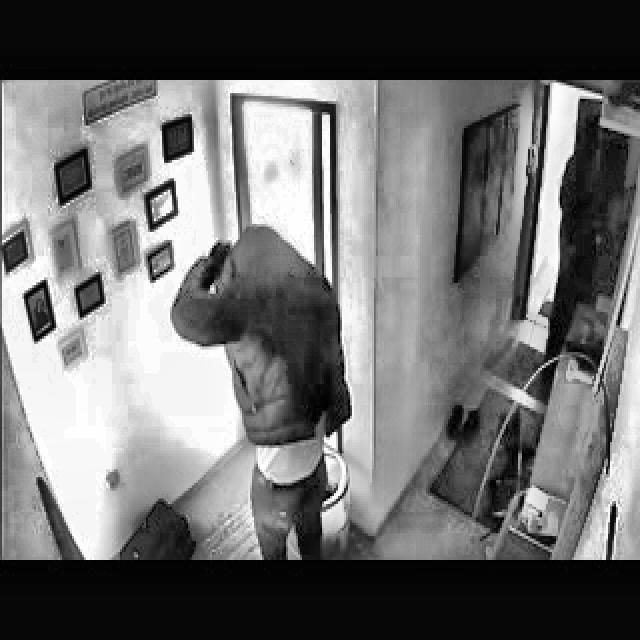burglary: (170, 221, 356, 557)
